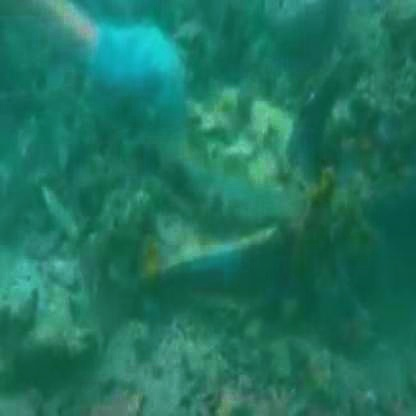plastic: (93, 12, 176, 100)
